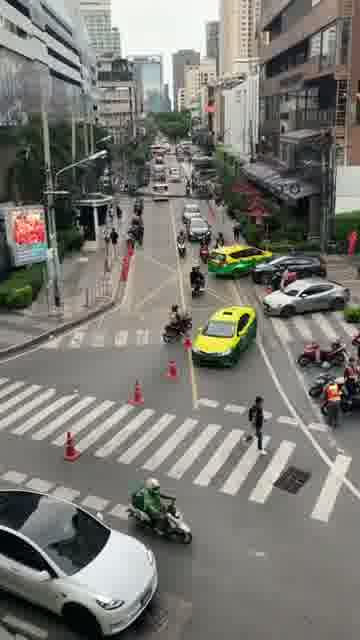bike: (125, 495, 192, 545), (309, 361, 359, 398), (298, 334, 349, 367), (321, 378, 359, 416), (163, 310, 192, 343), (190, 271, 207, 297), (199, 240, 209, 264), (176, 235, 186, 256), (215, 237, 223, 248), (185, 183, 190, 195)
car: (0, 487, 158, 637), (191, 304, 258, 369), (262, 276, 349, 317), (206, 242, 271, 279), (251, 253, 328, 284), (187, 215, 212, 241), (151, 178, 171, 199), (182, 203, 201, 224)
pedestrian: (240, 394, 268, 456), (325, 375, 341, 429), (109, 227, 118, 256), (135, 218, 144, 245), (231, 217, 241, 240), (218, 199, 225, 223), (103, 224, 110, 247), (107, 203, 115, 223), (115, 204, 122, 224)
